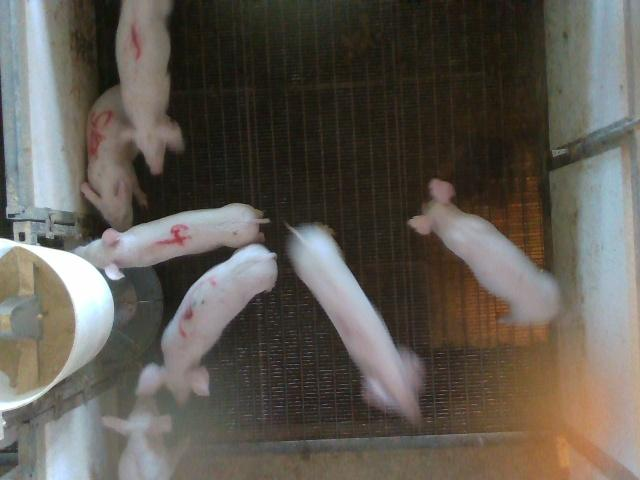pig-1: (116, 0, 184, 174)
pig-2: (289, 224, 425, 426)
pig-3: (137, 244, 276, 404)
pig-4: (75, 204, 268, 279)
pig-5: (81, 85, 148, 231)
